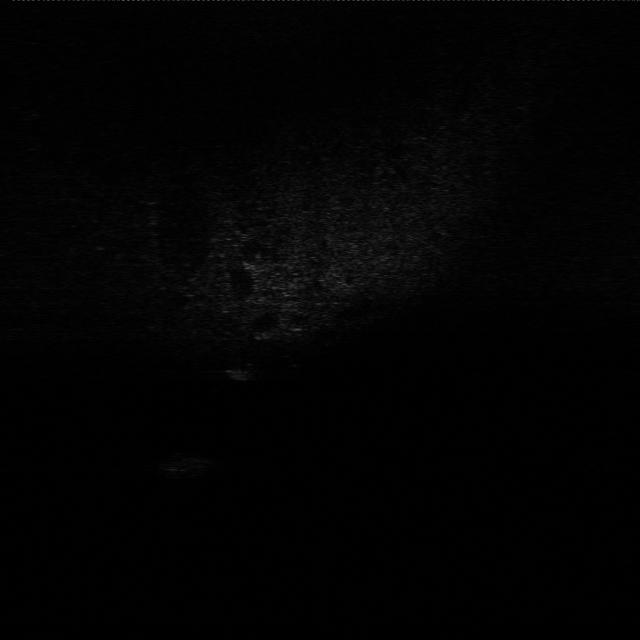circle cage: (160, 444, 220, 476)
cube: (219, 358, 263, 382)
